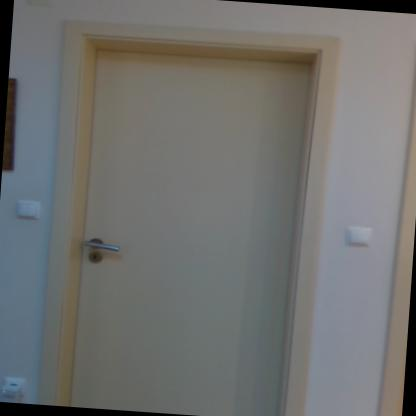closed: (30, 12, 355, 415)
